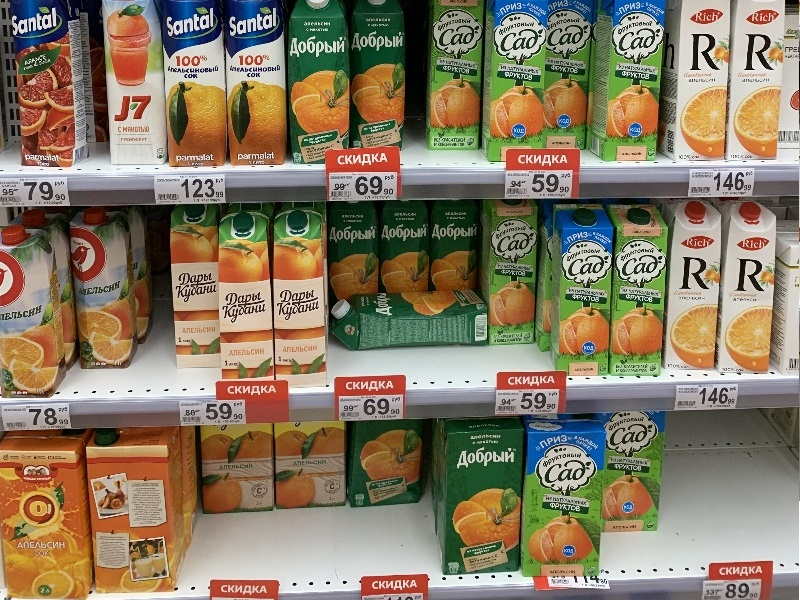juice: (82, 424, 195, 592), (436, 416, 536, 578), (520, 410, 613, 579), (660, 198, 734, 376), (547, 200, 618, 383), (599, 202, 671, 380), (1, 223, 70, 406), (69, 209, 142, 377), (713, 197, 780, 377), (269, 206, 332, 395), (283, 1, 355, 165), (478, 196, 543, 349), (216, 213, 274, 380), (169, 200, 223, 374)
